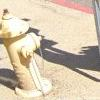a fire hydrant: (0, 8, 54, 98)
